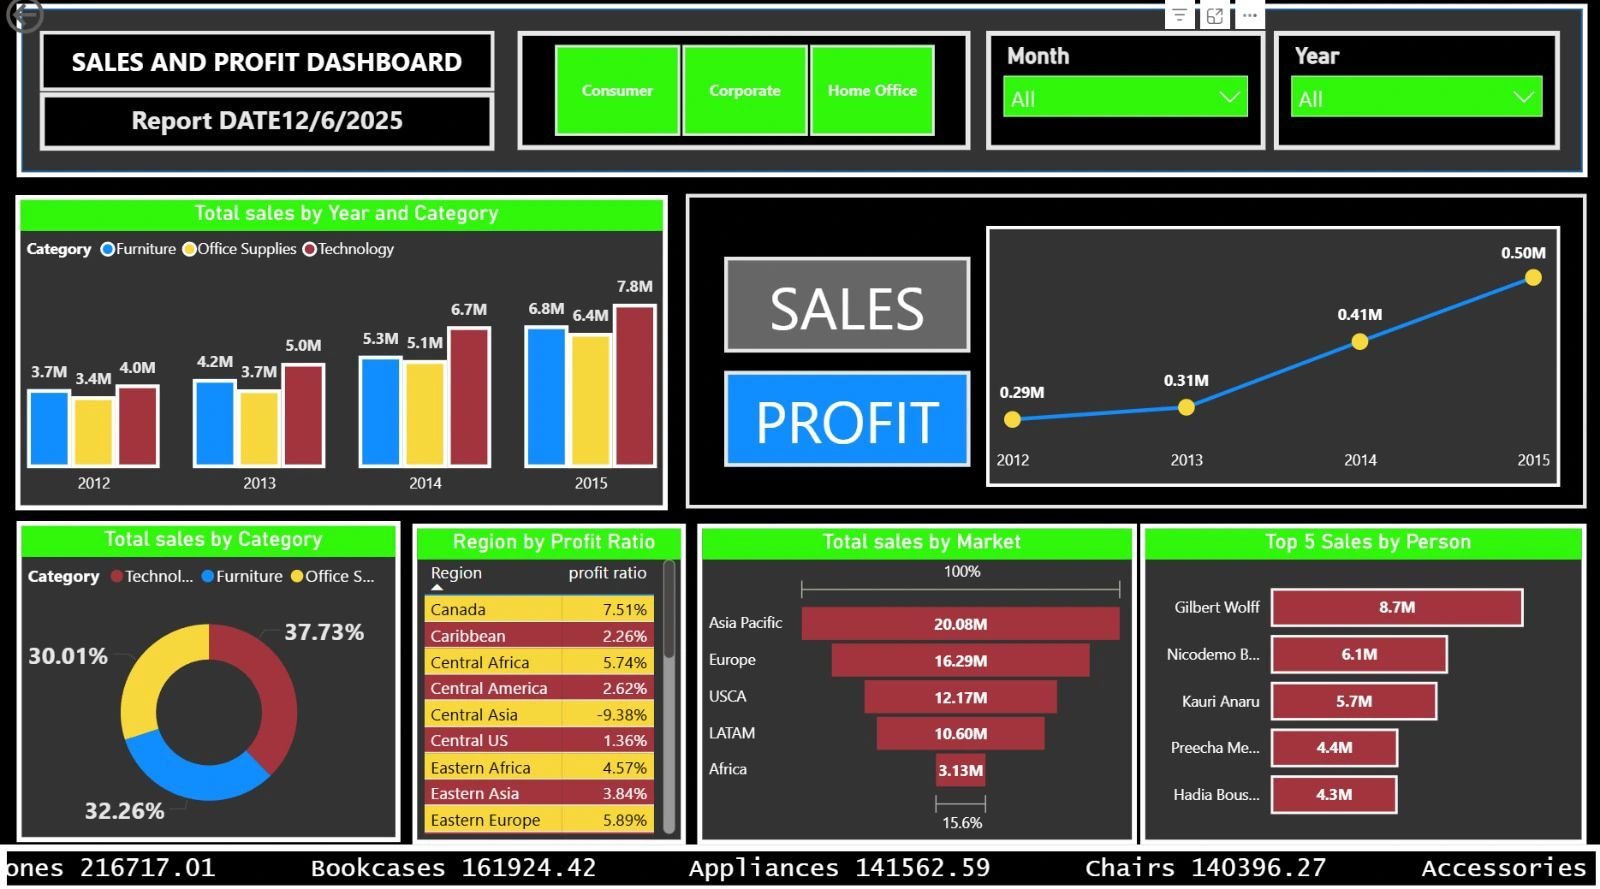

Layout of this report page (visuals, bound fields, positions):
{"tool":"powerbi","page":{"name":"DASHBOARD","canvas":[1280,720],"ordinal":0},"visuals":[{"type":"shape","box":[548.3,163.3,720,251.7],"z":0},{"type":"ScrollingTextVisual1448795304508","fields":{"Category":["Orders.Sub-Category"],"Measure Absolute":["Sum(Orders.Profit)"]},"box":[0,683.3,1279.8,37.2],"z":1000},{"type":"barChart","title":"Top 5 Sales by Person","fields":{"Category":["People.Person"],"Y":["Sum(Orders.sales)"]},"box":[911.7,426.7,356.7,256.7],"z":2000},{"type":"funnel","title":"Total sales by Market","fields":{"Category":["Orders.Market"],"Y":["Sum(Orders.sales)"]},"box":[557.6,426.9,351.2,256.7],"z":3000},{"type":"tableEx","title":"Region by Profit Ratio","fields":{"Values":["Orders.Region","Date Table.profit ratio"]},"box":[329.2,426.9,218.9,256.7],"z":4000},{"type":"donutChart","title":"Total sales by Category","fields":{"Category":["Orders.Category"],"Y":["Sum(Orders.sales)"]},"box":[13.3,425,306.7,256.7],"z":5000},{"type":"clusteredColumnChart","title":"Total sales by Year and Category","fields":{"Category":["Date Table.Date.Variation.Date Hierarchy.Year"],"Y":["Sum(Orders.sales)"],"Series":["Orders.Category"]},"box":[12.6,163.8,521.4,252],"z":6000},{"type":"shape","box":[13.3,11.7,1255,138.3],"z":7000},{"type":"lineChart","fields":{"Category":["Date Table.Date.Variation.Date Hierarchy.Year"],"Y":["Sum(Orders.sales)"]},"box":[788.3,188.3,458.3,208.3],"z":8000},{"type":"shape","title":"s_blue","box":[578.3,200,196.7,76.7],"z":10000},{"type":"shape","title":"p_grey","box":[578.3,305,196.7,76.7],"z":13000},{"type":"slicer","fields":{"Values":["Date Table.Date.Variation.Date Hierarchy.Year"]},"box":[1018.3,33.3,228.3,95],"z":14000},{"type":"slicer","fields":{"Values":["Date Table.Date.Variation.Date Hierarchy.Month"]},"box":[788.3,33.3,223.3,95],"z":15000},{"type":"slicer","fields":{"Values":["Orders.Segment"]},"box":[413.3,33.3,361.7,95],"z":16000},{"type":"shape","box":[31.7,33.3,363.3,48.3],"z":17000},{"type":"card","fields":{"Values":["Date Table.report date"]},"box":[31.7,81.7,363.3,46.7],"z":18000},{"type":"actionButton","box":[0,0,100,40],"z":19000}]}

Visuals, with their boxes in screenshot pixels (x1, y1, x2, y2), scaled from the page's 1280x720 canvas onto the 1600x889 screenshot:
shape: rect(685, 202, 1585, 512)
ScrollingTextVisual1448795304508 - Orders.Sub-Category x Sum(Orders.Profit): rect(0, 844, 1599, 888)
"Top 5 Sales by Person" barChart: rect(1140, 527, 1586, 844)
"Total sales by Market" funnel: rect(697, 527, 1136, 844)
"Region by Profit Ratio" tableEx: rect(412, 527, 685, 844)
"Total sales by Category" donutChart: rect(17, 525, 400, 842)
"Total sales by Year and Category" clusteredColumnChart: rect(16, 202, 668, 513)
shape: rect(17, 14, 1585, 185)
lineChart - Date Table.Date.Variation.Date Hierarchy.Year x Sum(Orders.sales): rect(985, 232, 1558, 490)
"s_blue" shape: rect(723, 247, 969, 342)
"p_grey" shape: rect(723, 377, 969, 471)
slicer - Date Table.Date.Variation.Date Hierarchy.Year: rect(1273, 41, 1558, 158)
slicer - Date Table.Date.Variation.Date Hierarchy.Month: rect(985, 41, 1264, 158)
slicer - Orders.Segment: rect(517, 41, 969, 158)
shape: rect(40, 41, 494, 101)
card - Date Table.report date: rect(40, 101, 494, 159)
actionButton: rect(0, 0, 125, 49)
